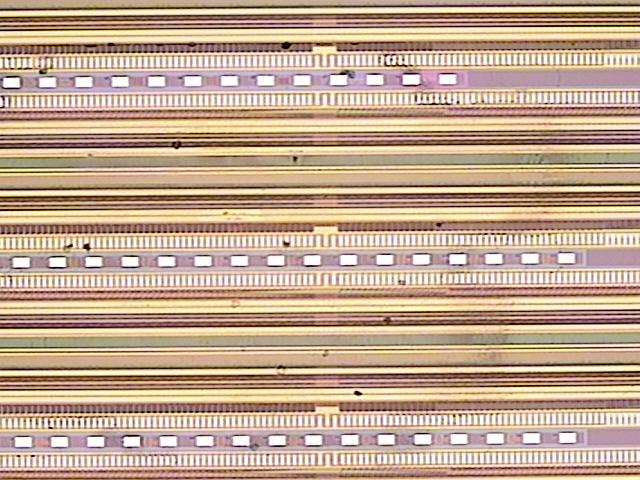PO CONTAMINATION: (38, 35, 593, 413)
